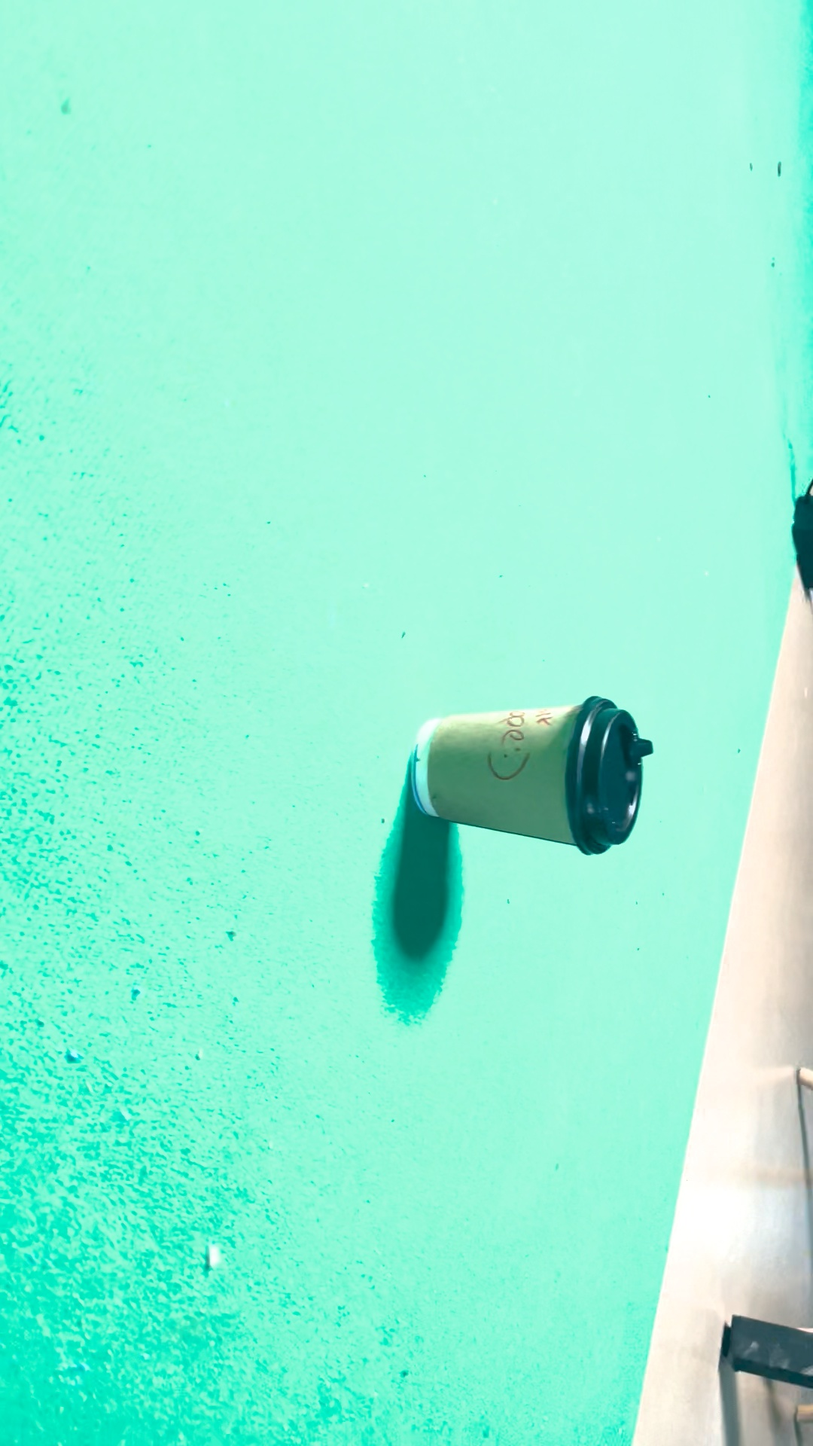cup: (417, 372, 503, 791)
